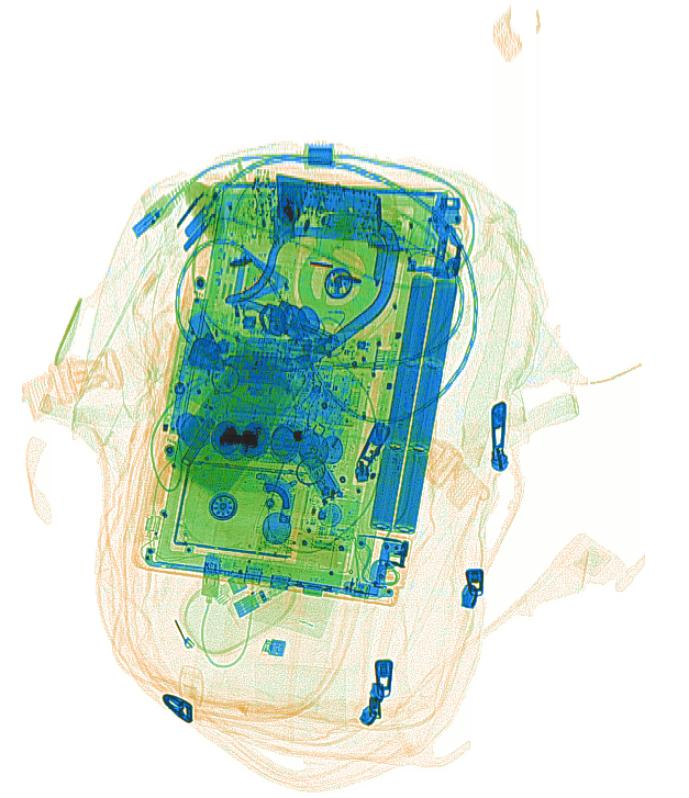USBFlashDisk: (230, 573, 298, 620), (296, 439, 343, 501)
